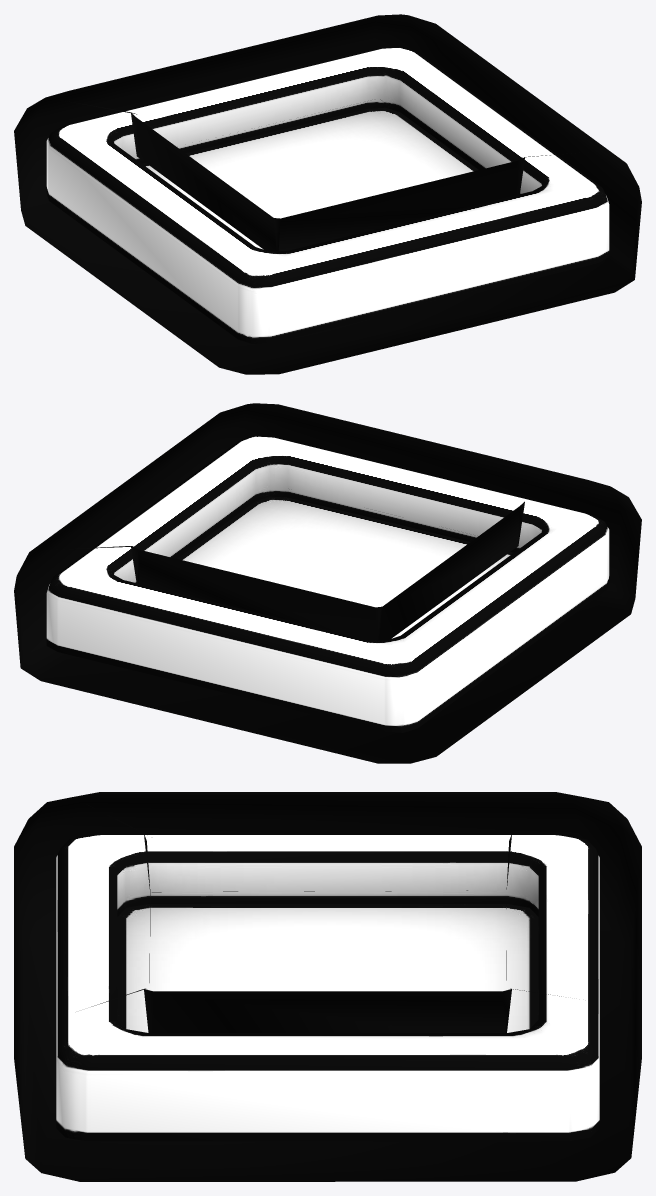
File: button_base_square.glb
3 views of the same model, one above another, from view 1: azimuth 30°, elevation 25°; view 2: azimuth 150°, elevation 25°; view 3: azimuth 270°, elevation 25° (orthographic). The views are drawn at different scales.
Visible parts, largest first — view 1: button_base_square; view 2: button_base_square; view 3: button_base_square.
Part boxes in pixels (<box>): button_base_square: <box>14,14,641,374</box>; button_base_square: <box>14,403,641,763</box>; button_base_square: <box>14,792,641,1181</box>.
Size of the model in its own units: 0.3182 by 0.0832 by 0.3182.
Materials: 1 (1 with a texture image).
